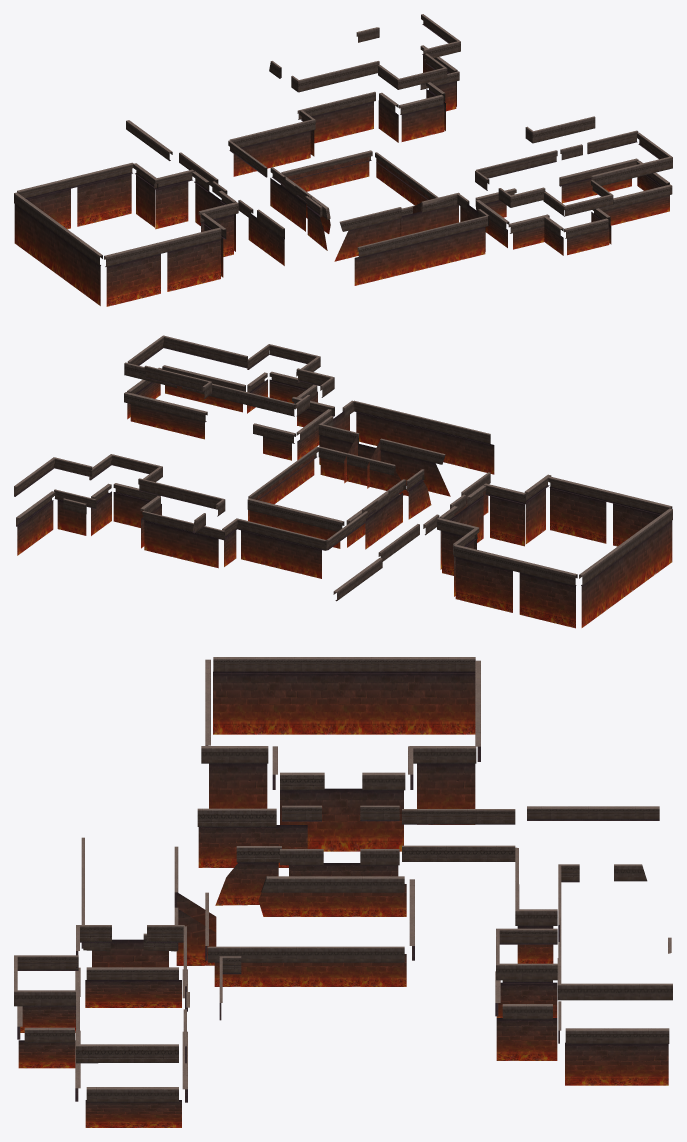
The model's file is rysd_qm_01.FBX.
The picture shows the model from 3 angles, top to bottom: view 1: azimuth 30°, elevation 25°; view 2: azimuth 150°, elevation 25°; view 3: azimuth 270°, elevation 25°; orthographic projection. The views are drawn at different scales.
Parts seen in each view (by area): view 1: rysd_qm_01; view 2: rysd_qm_01; view 3: rysd_qm_01.
Part boxes in pixels (x1,y1,x2,y2): rysd_qm_01: (14,14,672,306); rysd_qm_01: (14,335,672,628); rysd_qm_01: (14,657,672,1127).
Size of the model in its own units: 14145 by 1778 by 10003.
